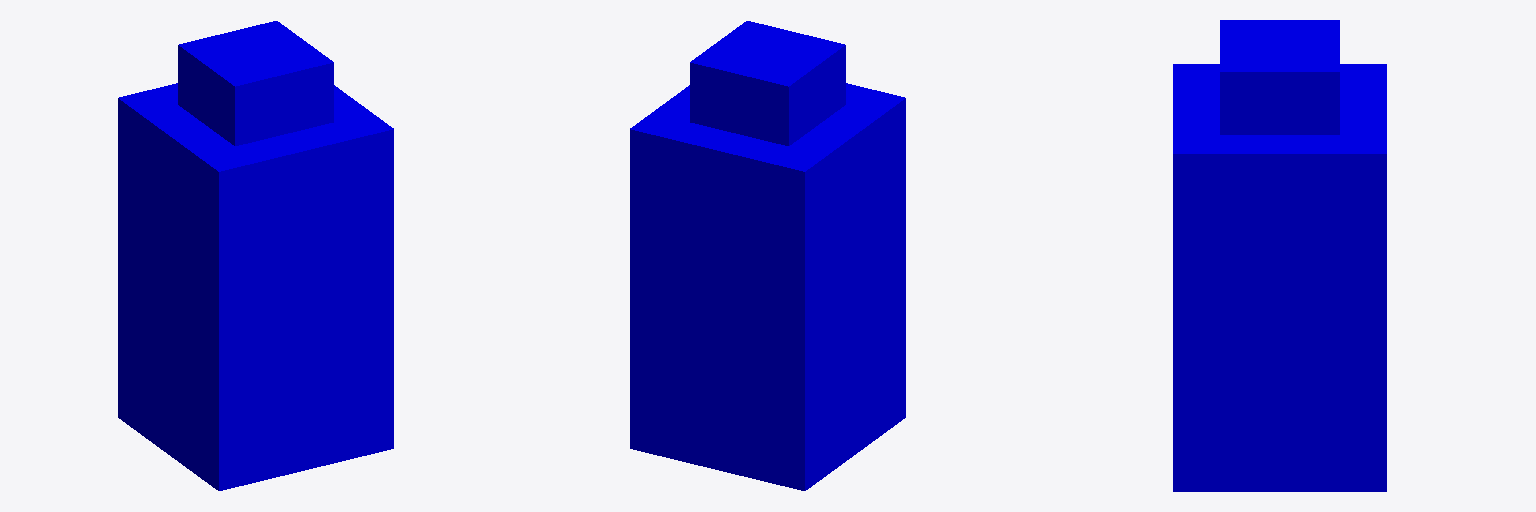
The robot description file, URDF, robot "bolt.urdf":
<?xml version="0.0" ?>
<robot name="bolt.urdf">
  <link name="base">
    <inertial>
      <origin rpy="0 0 0" xyz="0 0 0"/>
      <mass value="0.01"/>
      <inertia ixx="-4.46E-06" ixy="-4.55E-07" ixz="1.95E-06" iyy="-2.47E-06" iyz="8.51E-08" izz="2.17E-06"/>
    </inertial>
    <visual>
      <origin rpy="0 0 0" xyz="0 0 0"/>
      <geometry>
        <box size=".046 .046 0.08"/>
      </geometry>
      <material name="blue">
      </material>
    </visual>
    <collision>
      <origin rpy="0 0 0" xyz="0 0 0"/>
      <geometry>
        <box size=".046 .046 0.08"/>
      </geometry>
    </collision>
  </link>
  <joint name="joint1" type="revolute">
    <origin rpy="0 0 0" xyz="0 0 0.03"/>
    <parent link="base"/>
    <child link="top"/>
    <axis xyz="0 0 1"/>
    <limit effort="10" lower="-3.1415" upper="3.1415" velocity="2.1750"/>
  </joint>
  <link name="top">
    <inertial>
      <origin rpy="0 0 0" xyz="0 0 0"/>
      <mass value="0.01"/>
      <inertia ixx="-4.46E-06" ixy="-4.55E-07" ixz="1.95E-06" iyy="-2.47E-06" iyz="8.51E-08" izz="2.17E-06"/>
    </inertial>
    <visual>
      <origin rpy="0 0 0" xyz="0 0 0"/>
      <geometry>
        <box size=".026 .026 0.05"/>
      </geometry>
      <material name="blue">
      </material>
    </visual>
    <collision>
      <origin rpy="0 0 0" xyz="0 0 0"/>
      <geometry>
        <box size=".026 .026 0.05"/>
      </geometry>
    </collision>
  </link>

  <material name="panda_white">
    <color rgba="1. 1. 1. 1."/>
  </material>
  <material name="red">
    <color rgba="1.0 0. 0. 1.0"/>
  </material>
  <material name="blue">
    <color rgba="0. 0. 1. 1.0"/>
  </material>
  <material name="green">
    <color rgba="0. 1. 0. 1.0"/>
  </material>

</robot>

--- Render facts (derived) ---
The picture shows the robot from 3 angles, left to right: view 1: azimuth 30°, elevation 25°; view 2: azimuth 150°, elevation 25°; view 3: azimuth 270°, elevation 25°; orthographic projection.
Robot: bolt.urdf — 2 links, 1 joints (1 revolute); root link base; default pose: every joint at zero.
Links seen in each view (by area): view 1: base, top; view 2: base, top; view 3: base, top.
Link boxes in pixels (box(x1,y1,x2,y2)): base: box(118, 83, 393, 490); top: box(178, 21, 333, 145); base: box(630, 83, 905, 490); top: box(690, 21, 845, 145); base: box(1173, 64, 1386, 491); top: box(1220, 20, 1339, 134).
Size in the robot's own frame: 0.046 by 0.046 by 0.095 metres.
Geometry: primitives only (box / cylinder / sphere), no mesh files.